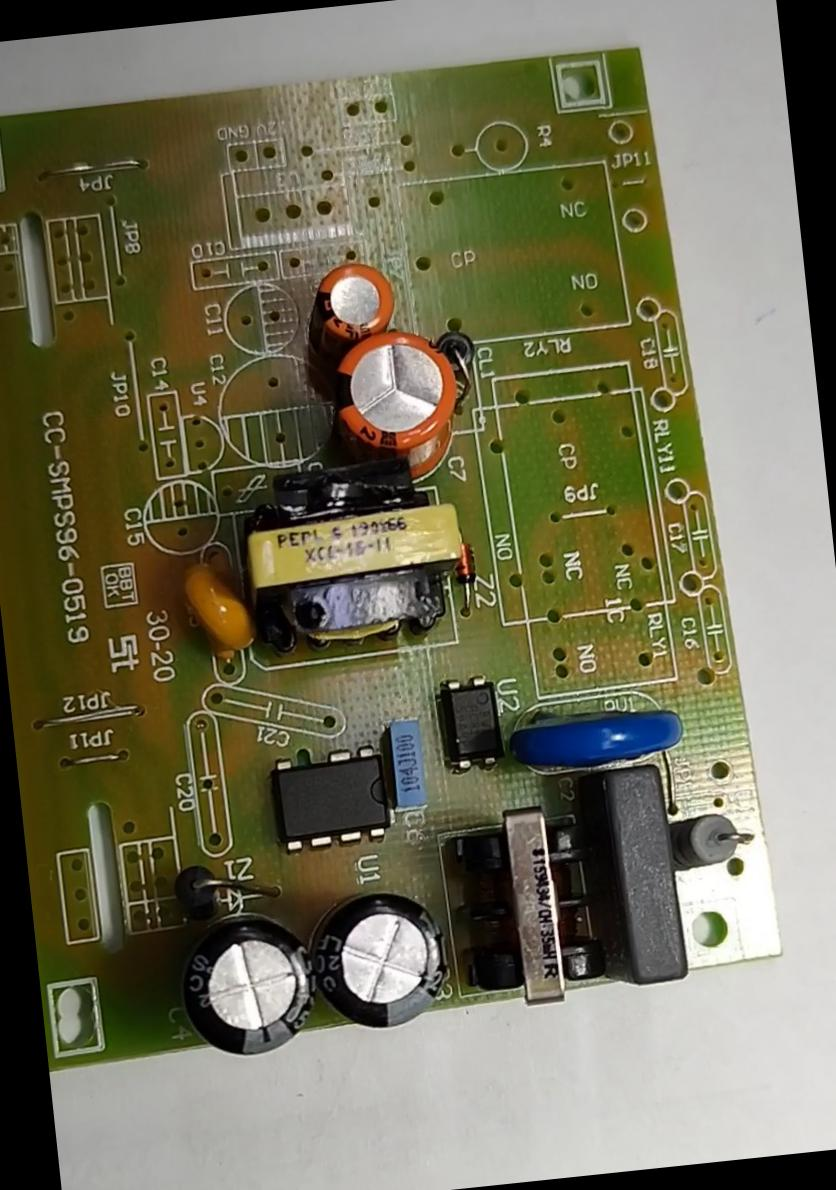Cap1: (316, 318, 469, 479)
Cap2: (298, 254, 400, 349)
Cap3: (302, 886, 458, 1042)
Cap4: (167, 900, 324, 1063)
MOSFET: (255, 733, 400, 858)
Mov: (494, 692, 692, 776)
Resistor: (668, 807, 760, 881)
Transformer: (226, 466, 480, 670), (434, 794, 614, 1017)
